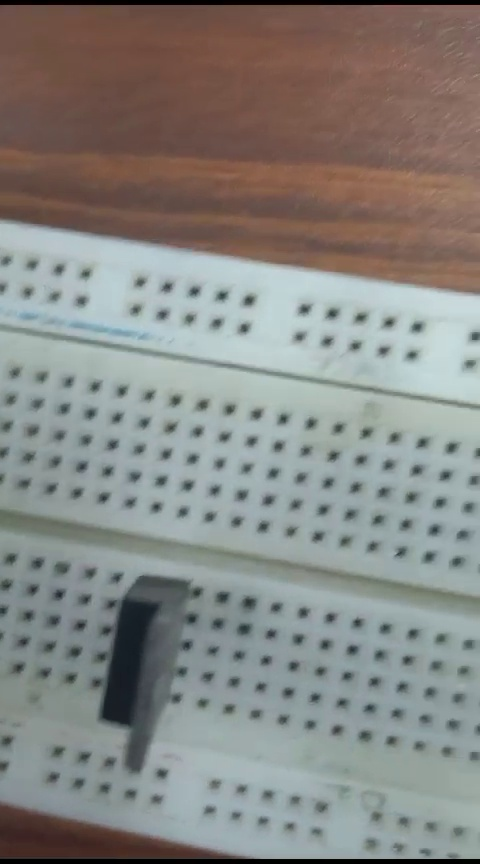voltage regulator: (81, 563, 202, 795)
